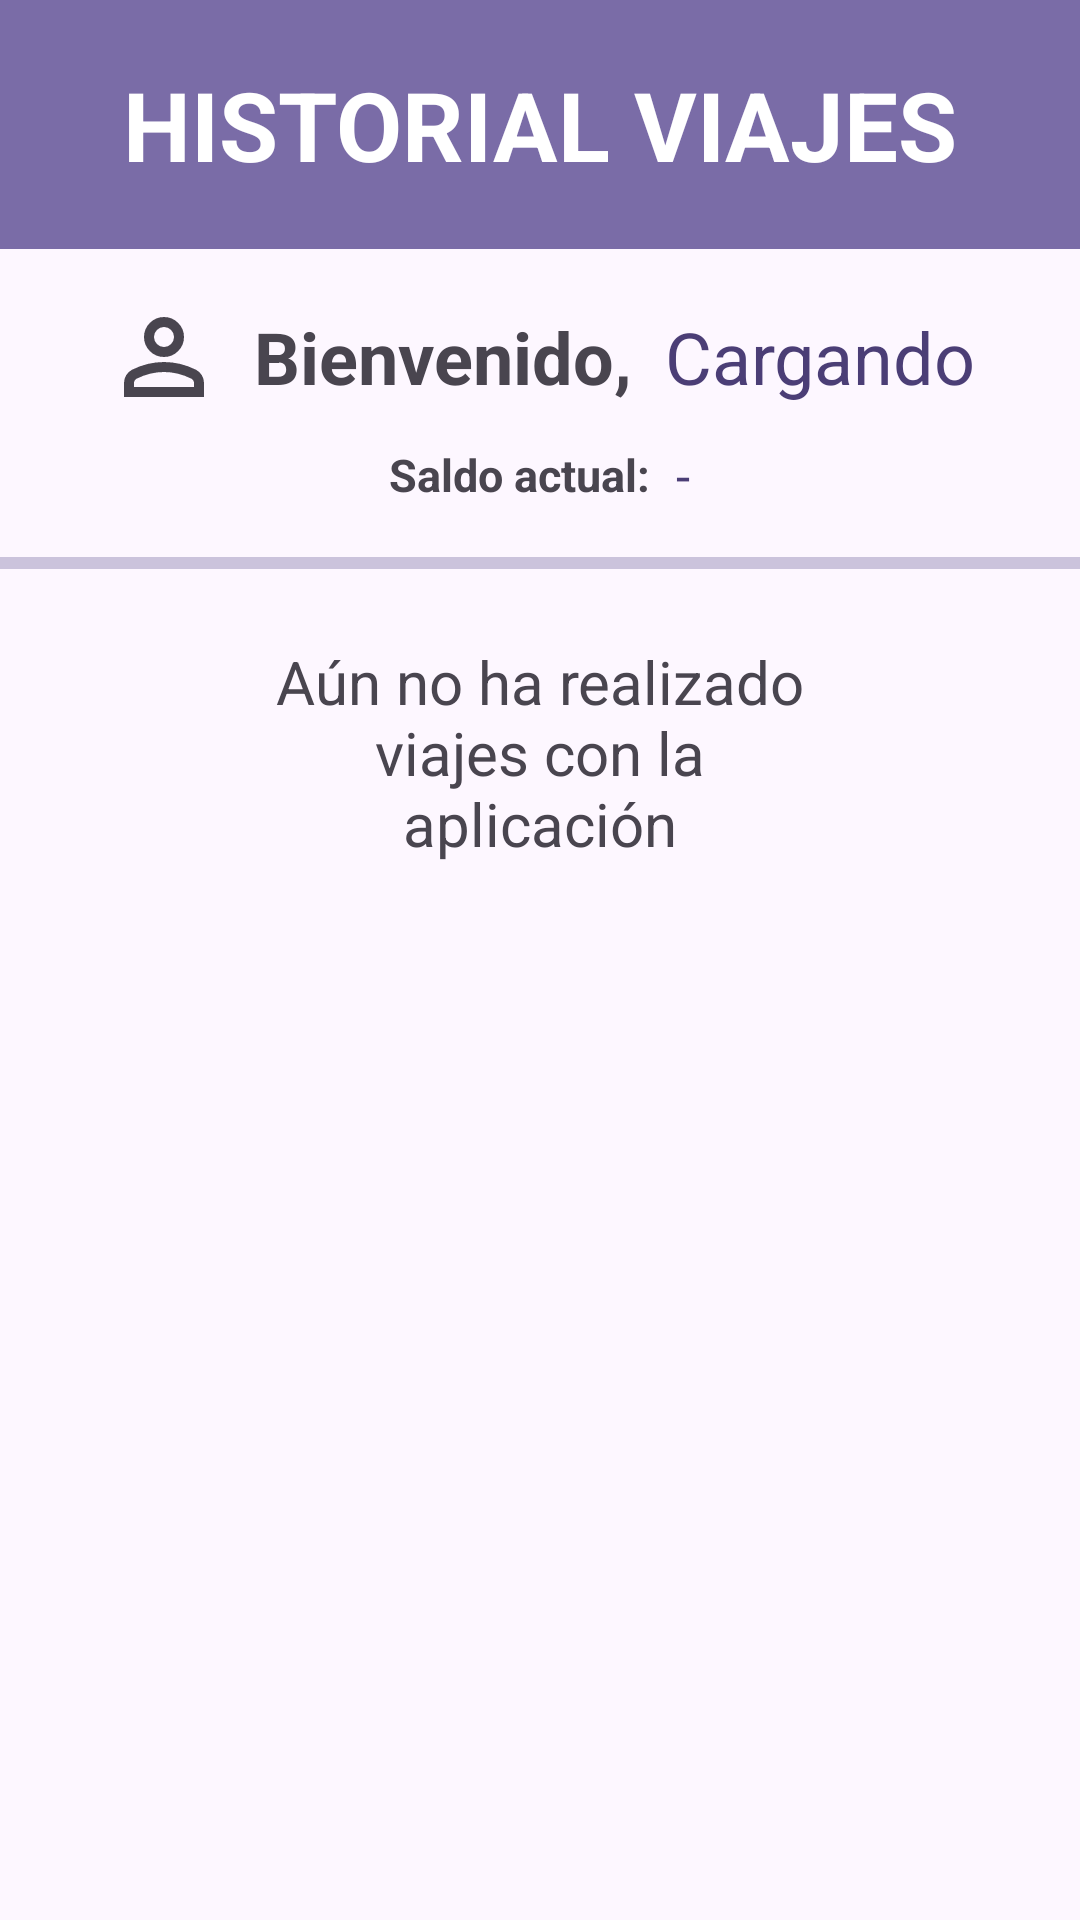

Icons on this 1080x1920 Android screen, each with the point to tap as [x,y]:
nombre: [164,357]
